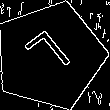L_SE: (21, 26, 79, 85)
